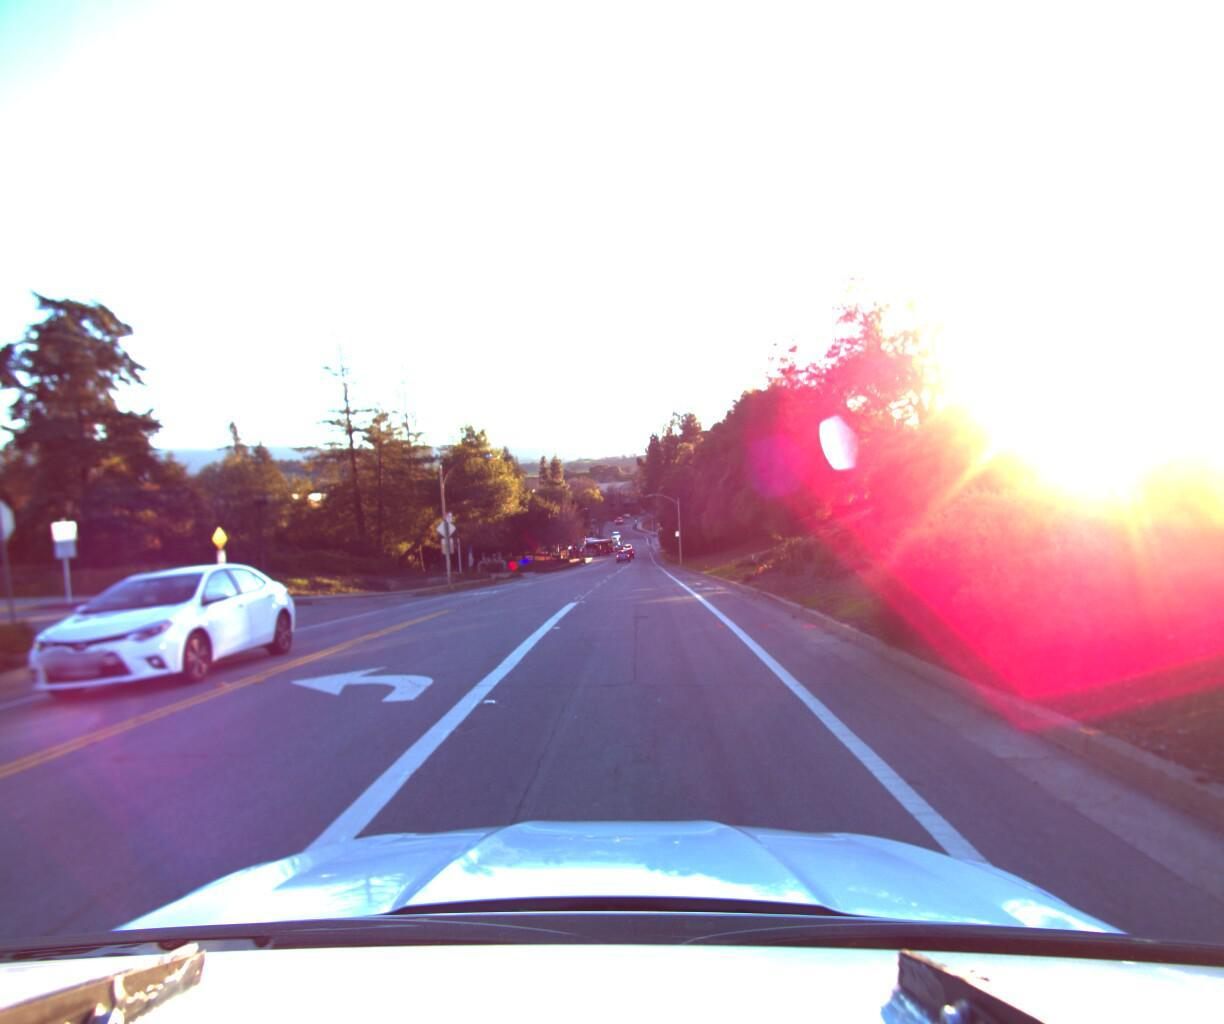car: (0, 555, 305, 729)
